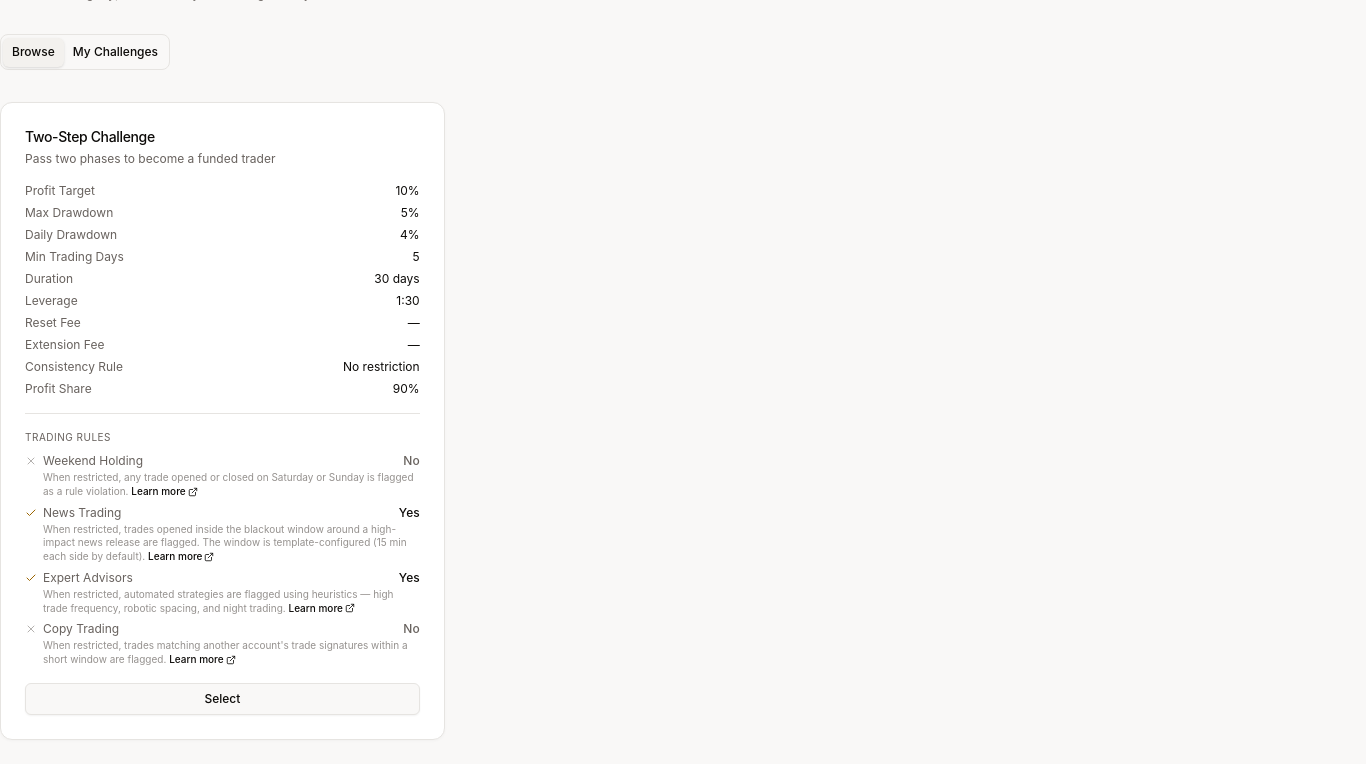
it: Challenges Page › Account Size Selection › renders account size options in the dialog
The width and height of the screenshot is (1366, 764).
(page scrolled)
Click the button "Select" at (222, 699), box [25,683,420,715]
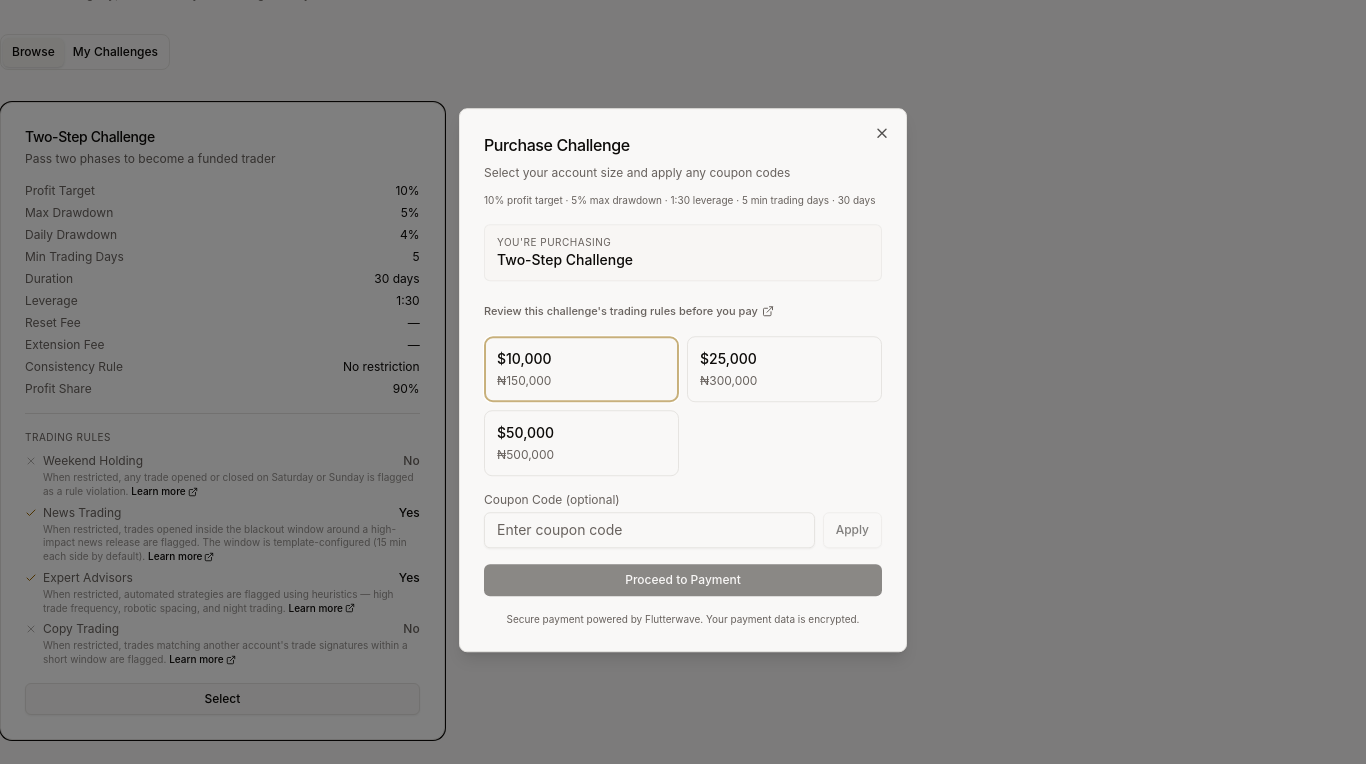
Now the text "$10,000" is shown, box [497,350,552,367]
Now the text "$25,000" is shown, box [700,350,757,367]
Now the text "$50,000" is shown, box [497,424,554,441]
